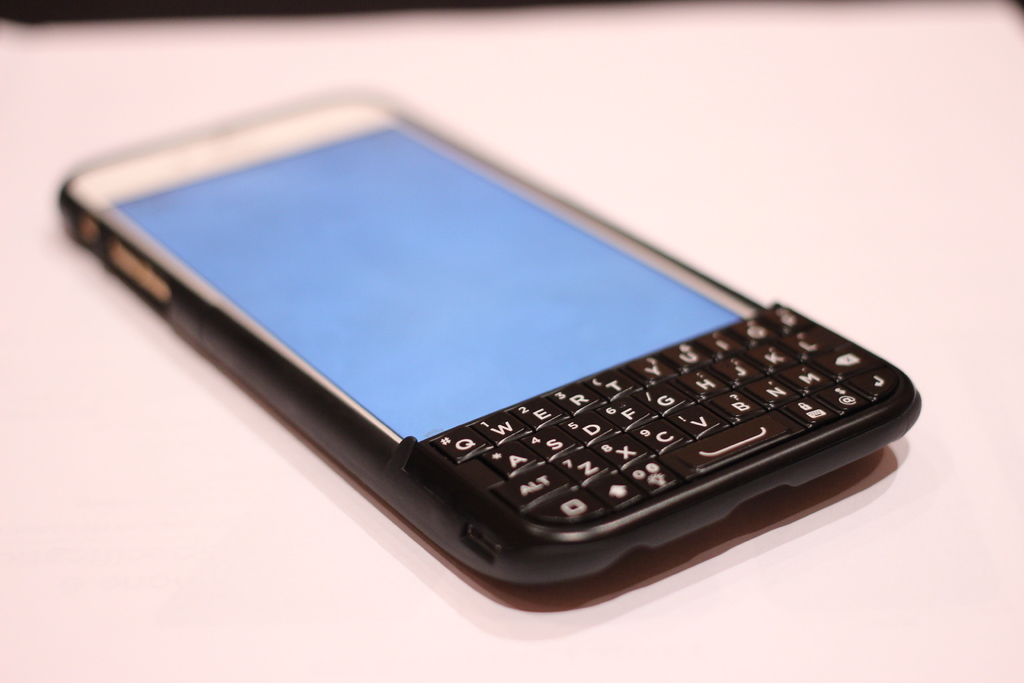Mobile-phone: (58, 86, 926, 622)
